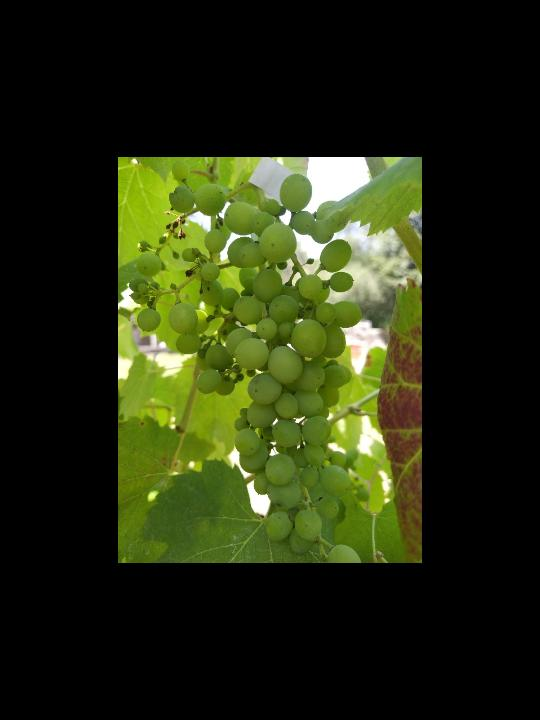grape: (130, 159, 364, 561)
